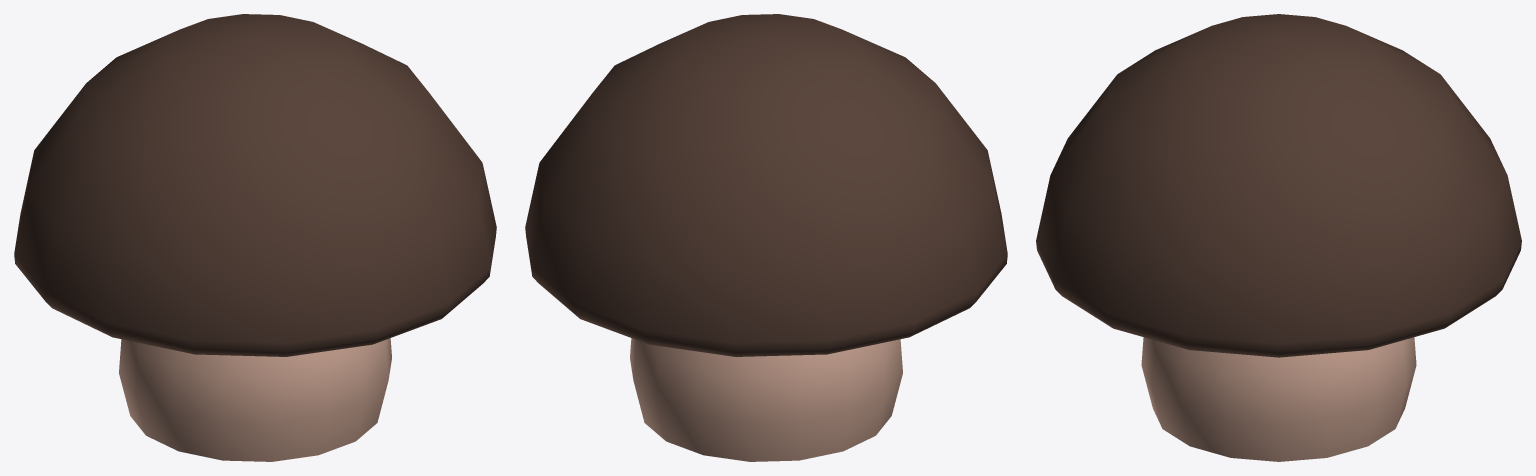
File: Mashroom_3_01.fbx
3 views of the same model, side by side, from view 1: azimuth 30°, elevation 25°; view 2: azimuth 150°, elevation 25°; view 3: azimuth 270°, elevation 25° (orthographic).
Parts seen in each view (by area): view 1: Mashroom_3_01; view 2: Mashroom_3_01; view 3: Mashroom_3_01.
Part boxes in pixels (box(x1,y1,x2,y2)): Mashroom_3_01: box(14, 14, 496, 461); Mashroom_3_01: box(525, 14, 1007, 461); Mashroom_3_01: box(1036, 14, 1521, 461).
Bounding box in the file's own units: 338 × 285 × 338.
